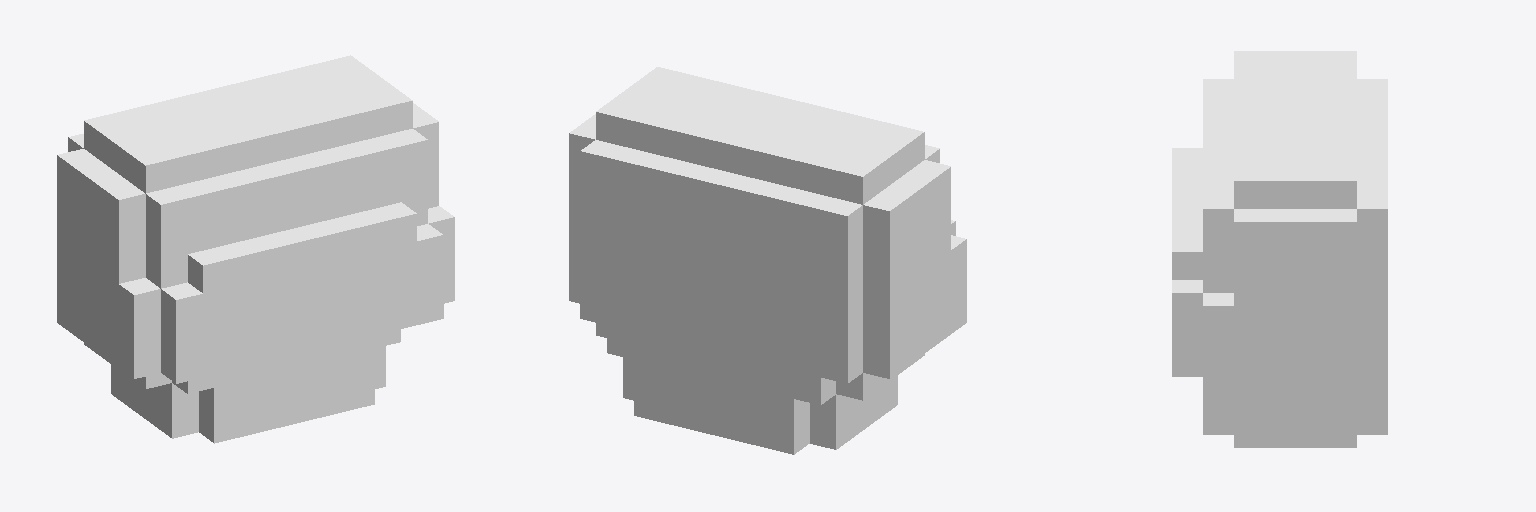
The model's file is female-10.obj.
3 renders of one model, left to right at view 1: azimuth 30°, elevation 25°; view 2: azimuth 150°, elevation 25°; view 3: azimuth 270°, elevation 25°, orthographic.
Parts seen in each view (by area): view 1: object 1; view 2: object 1; view 3: object 1.
Part boxes in pixels (x1,y1,x2,y2): object 1: (57, 55, 454, 443); object 1: (569, 67, 966, 454); object 1: (1172, 51, 1387, 447).
Bounding box in the file's own units: 1.2 × 1 × 0.7.